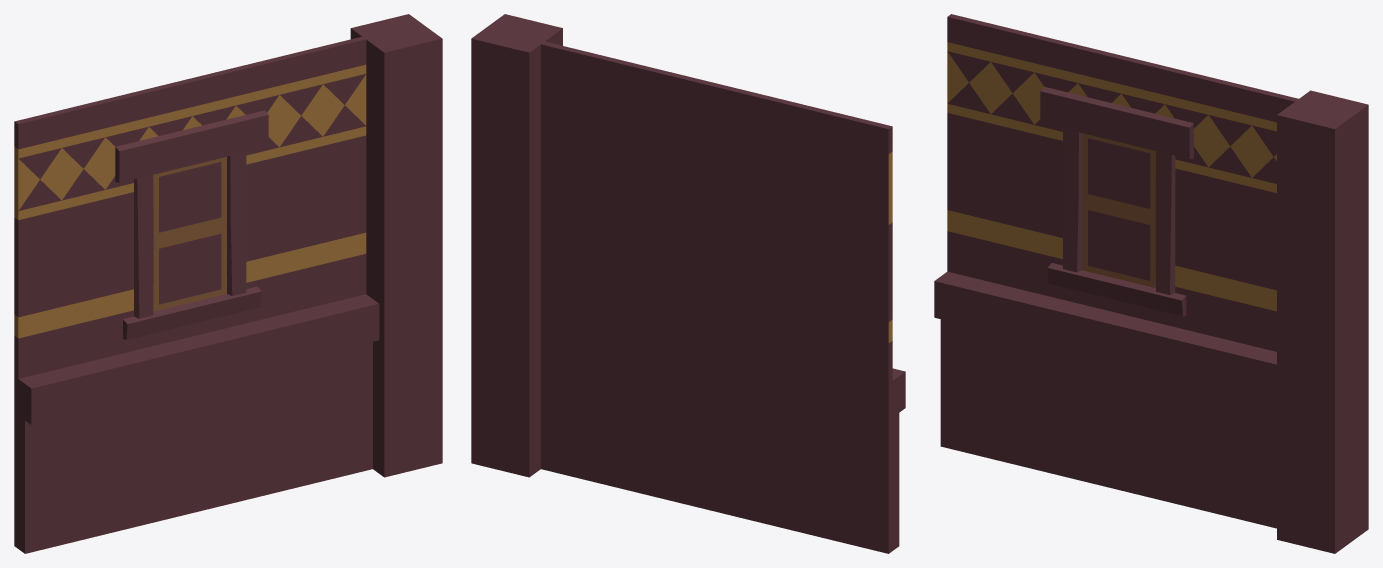
File: SM_Wall_Window_L_3x3m_Empire.fbx
The picture shows the model from 3 angles, left to right: view 1: azimuth 30°, elevation 25°; view 2: azimuth 150°, elevation 25°; view 3: azimuth 330°, elevation 25°; orthographic projection.
Parts seen in each view (by area): view 1: SM_Wall_Window_L_3x3m_Empire; view 2: SM_Wall_Window_L_3x3m_Empire; view 3: SM_Wall_Window_L_3x3m_Empire.
Part boxes in pixels (x1=…): SM_Wall_Window_L_3x3m_Empire: x1=14, y1=14, x2=442, y2=553; SM_Wall_Window_L_3x3m_Empire: x1=471, y1=14, x2=905, y2=553; SM_Wall_Window_L_3x3m_Empire: x1=934, y1=14, x2=1368, y2=553.
Size of the model in its own units: 3 by 3 by 0.43.
